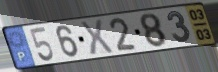2: (109, 17, 139, 53)
3: (166, 10, 192, 45)
5: (28, 26, 55, 63)
6: (55, 24, 81, 59)
8: (139, 12, 169, 49)
X: (78, 18, 115, 58)
